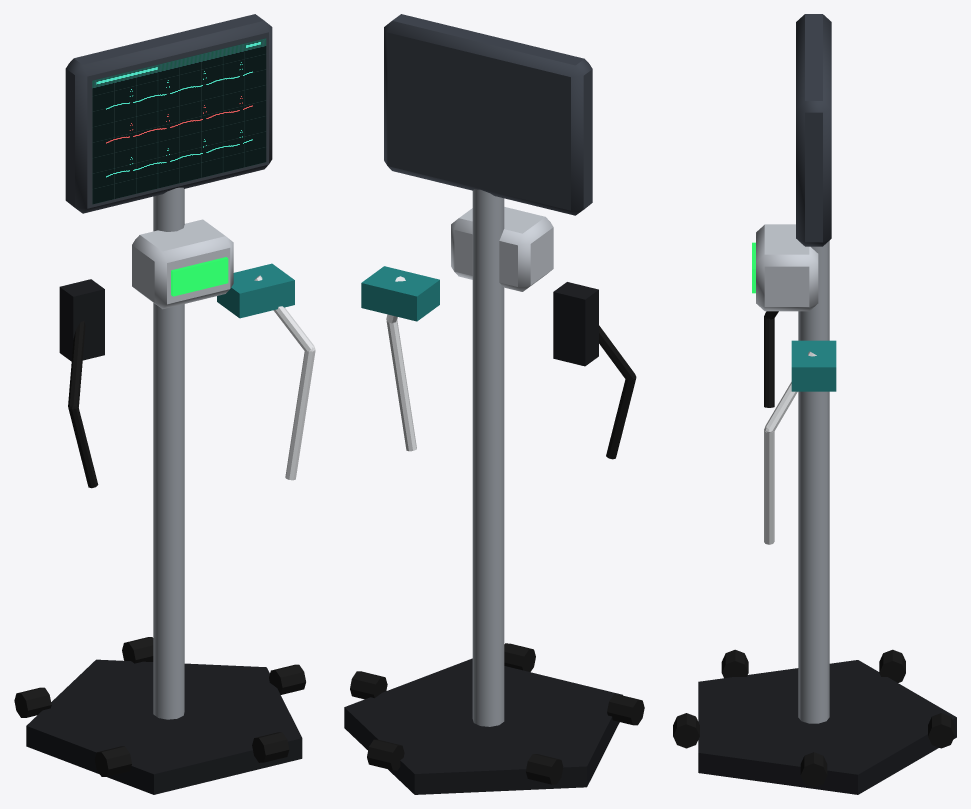
The model's file is medscanner_vitals_monitor_stand.glb.
3 views of the same model, side by side, from view 1: azimuth 30°, elevation 25°; view 2: azimuth 150°, elevation 25°; view 3: azimuth 270°, elevation 25° (orthographic). The views are drawn at different scales.
Visible parts, largest first — view 1: medscanner_vitals_monitor_stand; view 2: medscanner_vitals_monitor_stand; view 3: medscanner_vitals_monitor_stand.
Part boxes in pixels (x1,y1,x2,y2): medscanner_vitals_monitor_stand: [14, 14, 315, 794]; medscanner_vitals_monitor_stand: [344, 14, 644, 794]; medscanner_vitals_monitor_stand: [673, 14, 956, 794].
Bounding box in the file's own units: 0.642 × 1.68 × 0.6353.
Materials: 9 (1 with a texture image).
